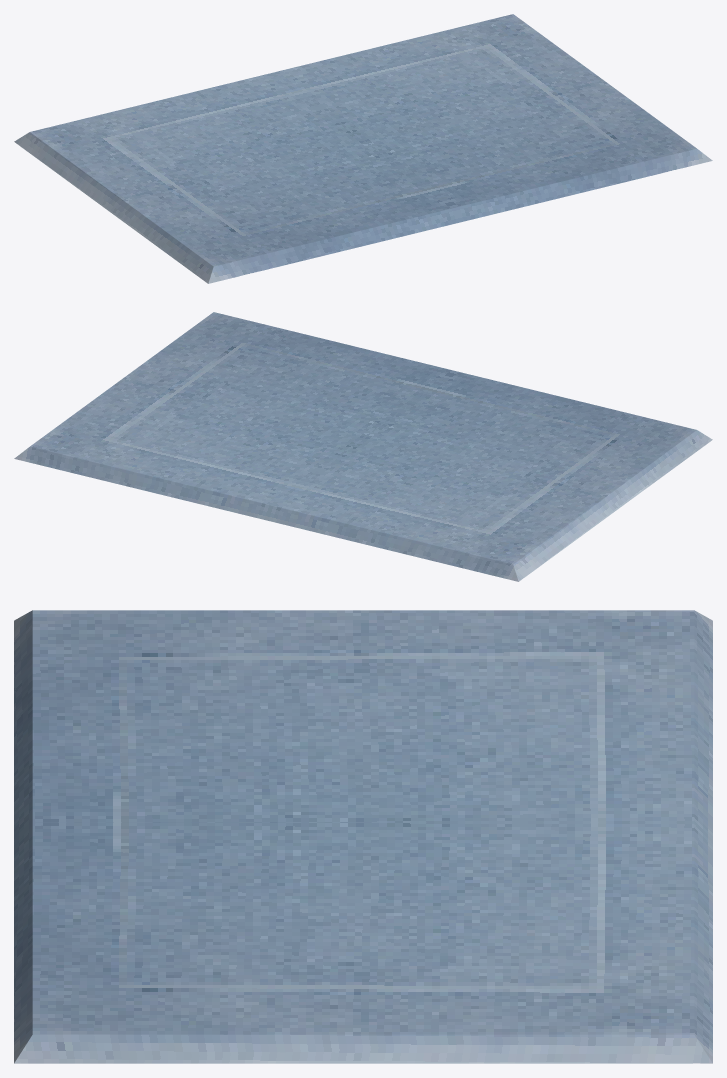
Rendered from ShowerRug.glb.
The picture shows the model from 3 angles, top to bottom: view 1: azimuth 30°, elevation 25°; view 2: azimuth 150°, elevation 25°; view 3: azimuth 270°, elevation 25°; orthographic projection. The views are drawn at different scales.
Parts seen in each view (by area): view 1: shower rug; view 2: shower rug; view 3: shower rug.
Boxes of the visible parts, x1=… form: shower rug: x1=14, y1=14, x2=712, y2=283; shower rug: x1=14, y1=312, x2=712, y2=581; shower rug: x1=14, y1=610, x2=712, y2=1063.
Bounding box in the file's own units: 0.6 × 0.0125 × 0.4.
Materials: 1 (1 with a texture image).
